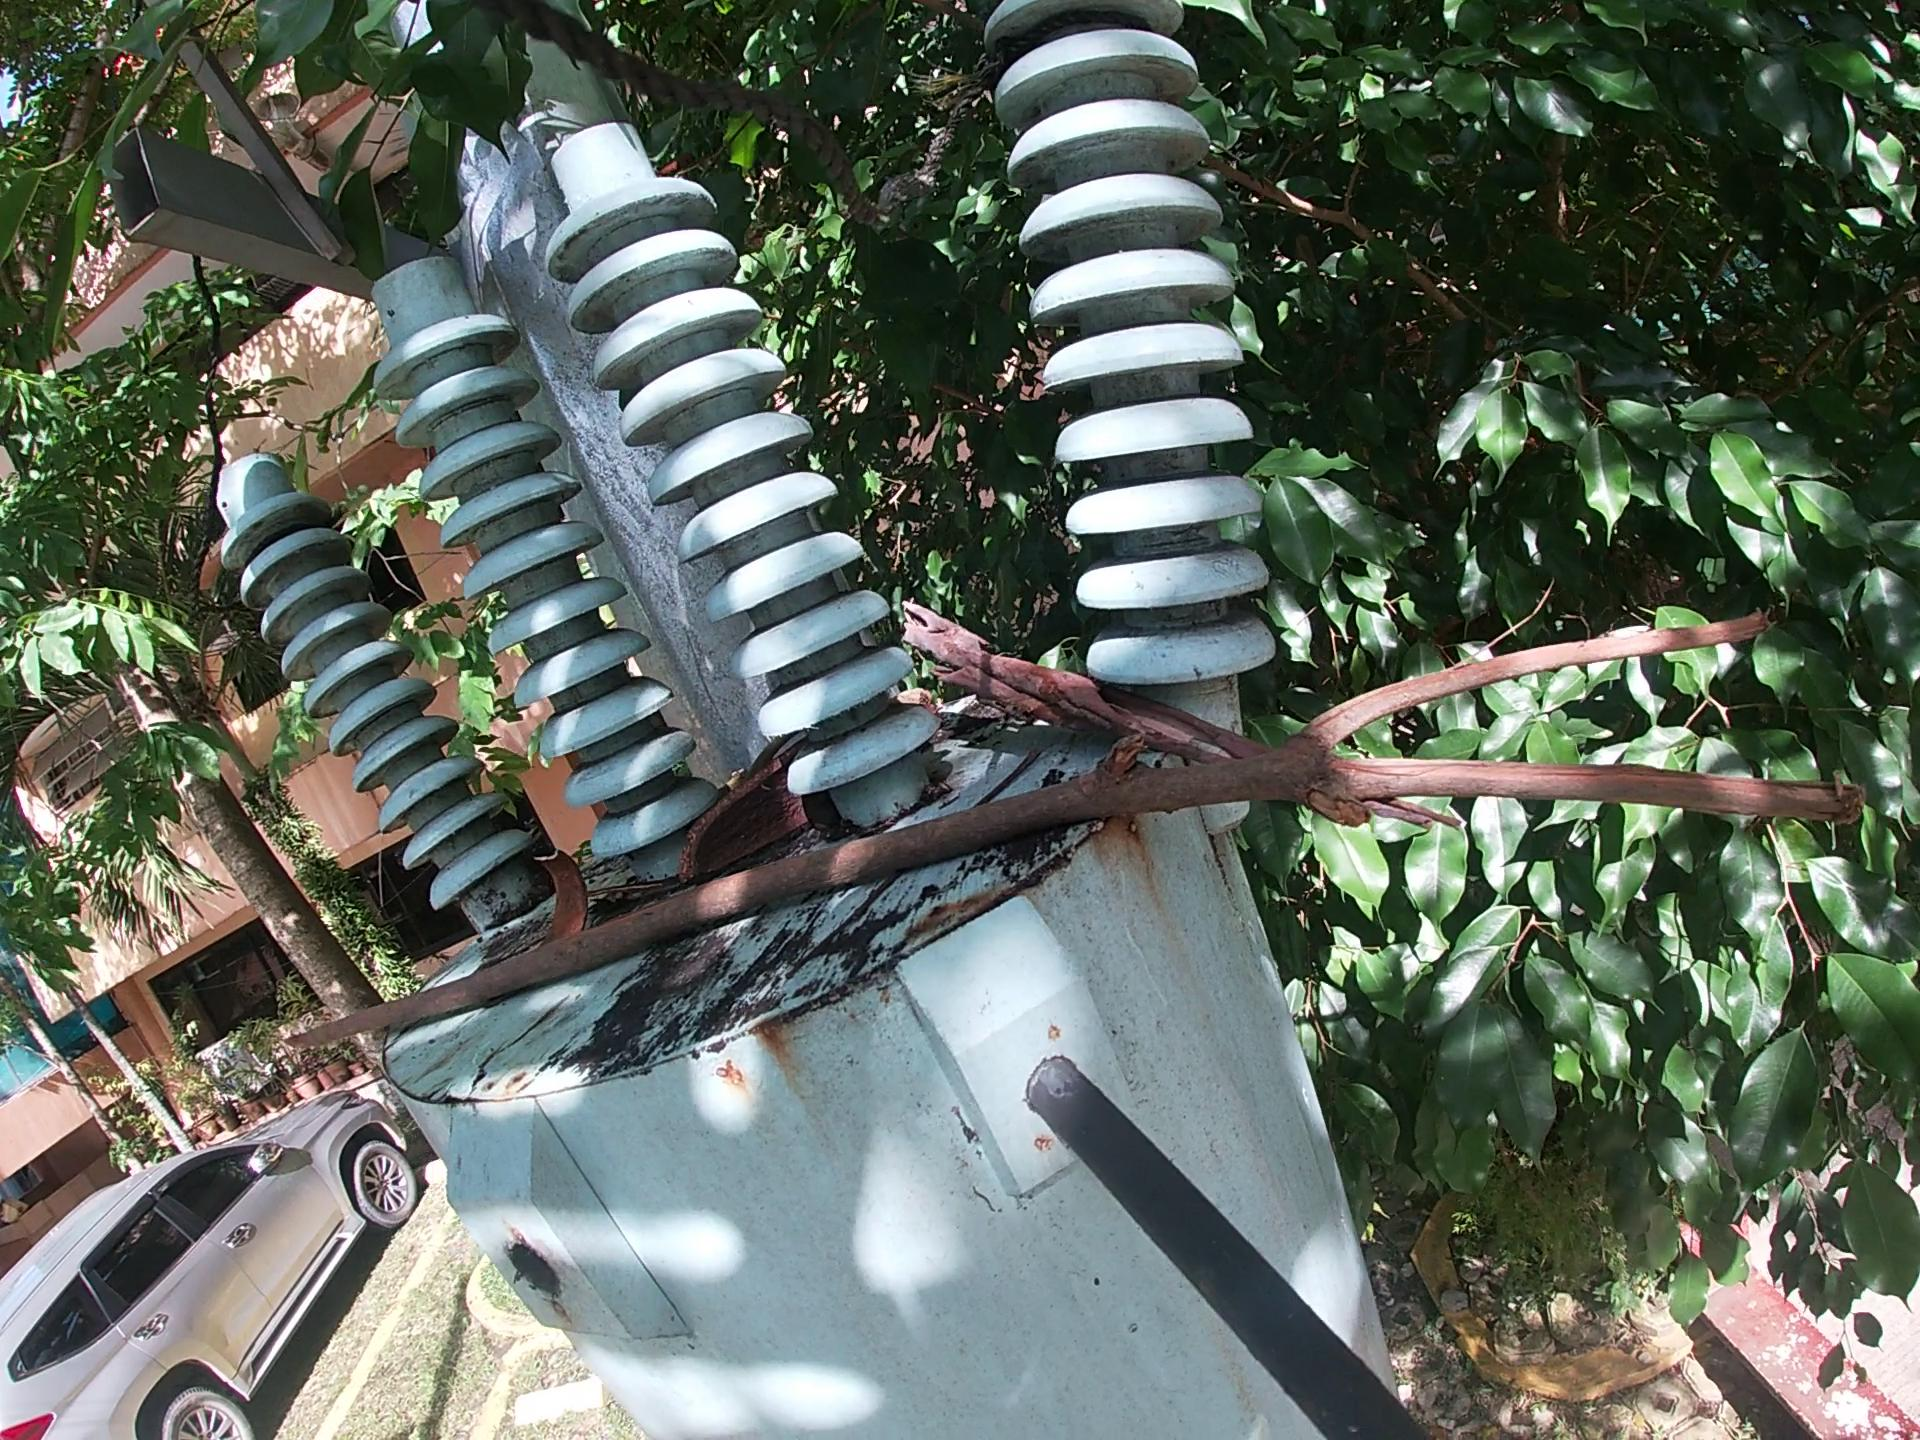mahogany fruit: (671, 735, 825, 892), (519, 847, 593, 957)
tree branch: (277, 602, 1875, 1065), (892, 597, 1469, 853)
